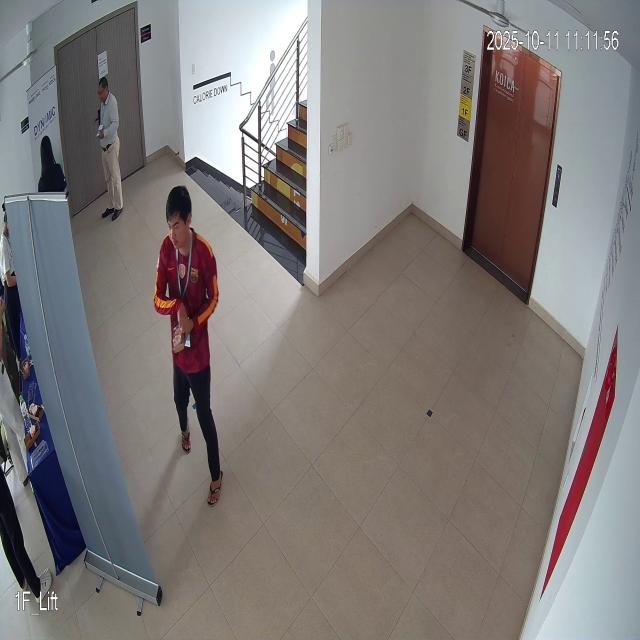face: (160, 172, 195, 258)
